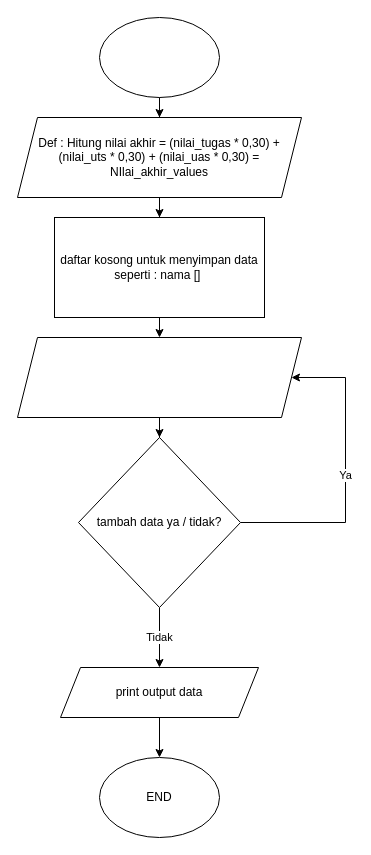
This 371x855 diagram has some shape labels left out. Here are the shapes that lost their labels. From the top down, the centre of each, then its label:
At point (159, 57): "START".
At point (159, 377): "input nama, nim, nilai tugas, nilai uts, nilai uas".
